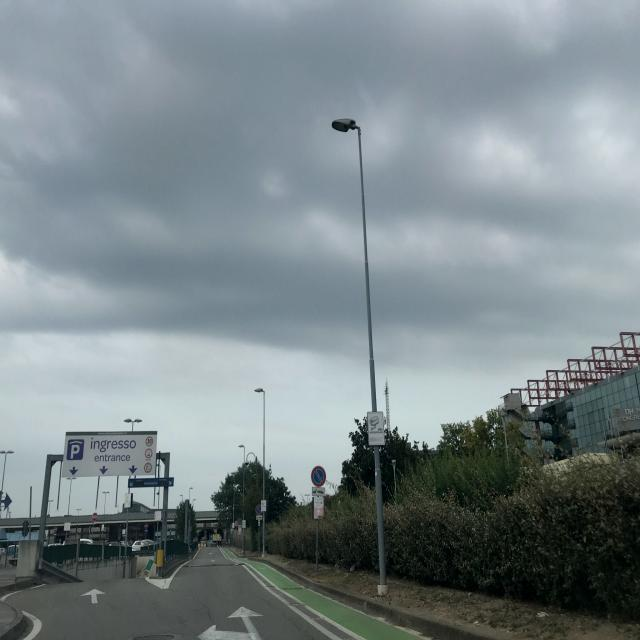car: (131, 539, 154, 554)
